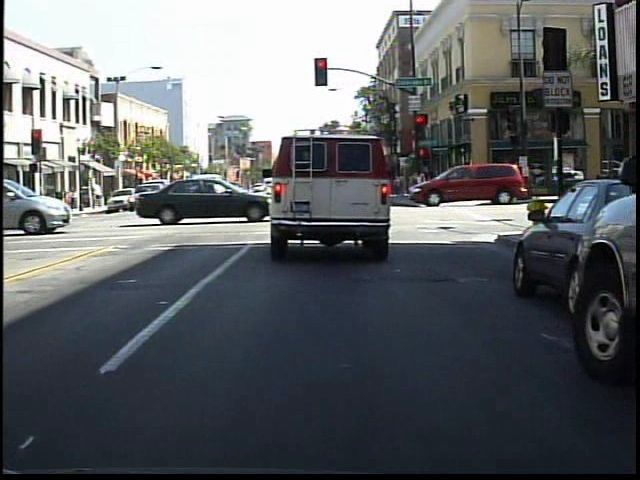person: (488, 161, 508, 200)
